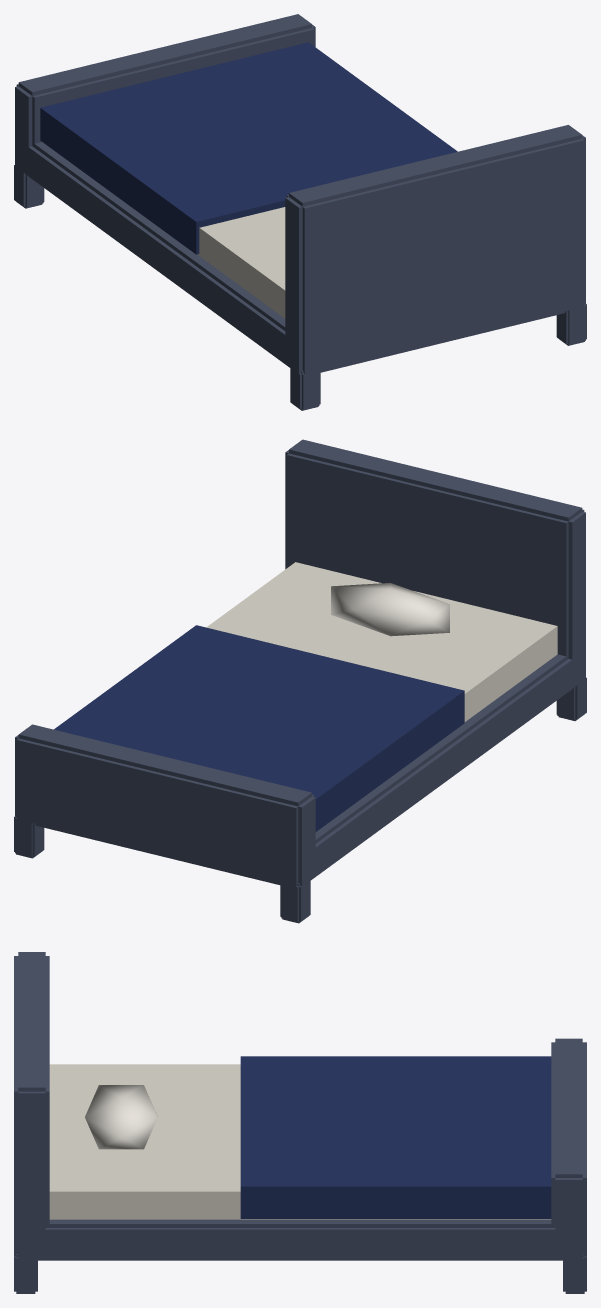
File: granite_bed_v0.glb
3 renders of one model, top to bottom at view 1: azimuth 30°, elevation 25°; view 2: azimuth 150°, elevation 25°; view 3: azimuth 270°, elevation 25°, orthographic.
Parts seen in each view (by area): view 1: granite_bed_v0; view 2: granite_bed_v0; view 3: granite_bed_v0.
Boxes of the visible parts, <box> form: granite_bed_v0: <box>14,14,586,410</box>; granite_bed_v0: <box>14,439,586,923</box>; granite_bed_v0: <box>14,952,586,1293</box>.
Size of the model in its own units: 1.38 by 0.95 by 2.4.
